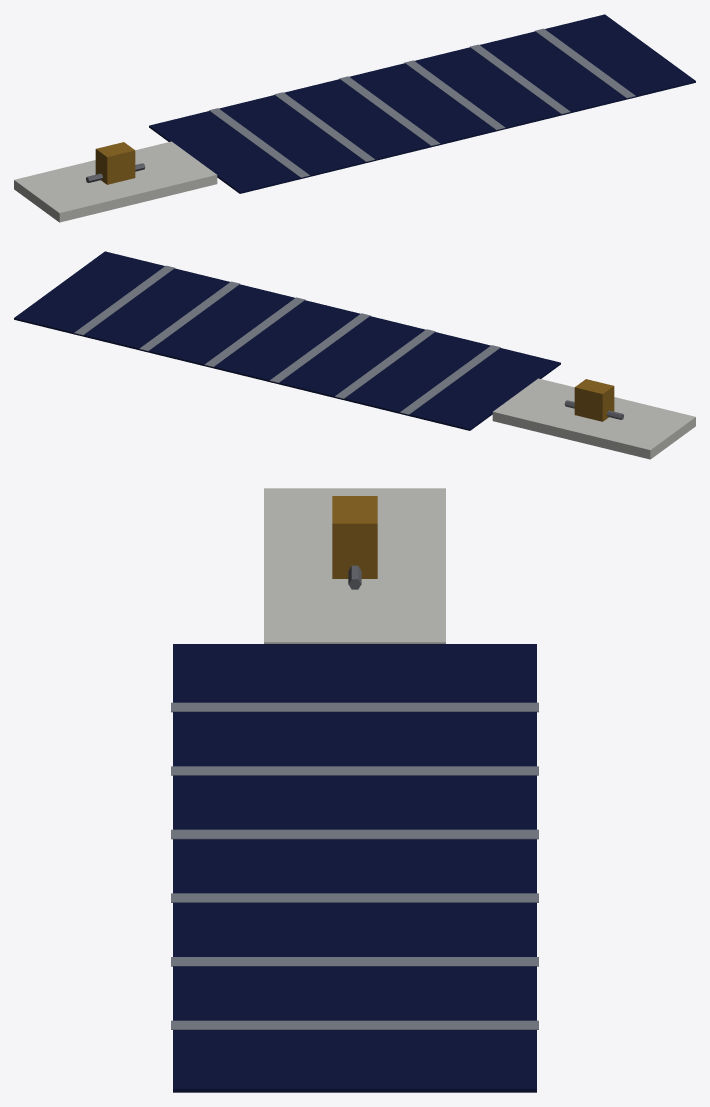
Rendered from starlink_v1.glb.
The picture shows the model from 3 angles, top to bottom: view 1: azimuth 30°, elevation 25°; view 2: azimuth 150°, elevation 25°; view 3: azimuth 270°, elevation 25°; orthographic projection. The views are drawn at different scales.
Parts seen in each view (by area): view 1: starlink_v1; view 2: starlink_v1; view 3: starlink_v1.
Part boxes in pixels (x1,y1,x2,y2): starlink_v1: (14, 14, 695, 222); starlink_v1: (14, 251, 695, 459); starlink_v1: (171, 488, 538, 1092).
Bounding box in the file's own units: 10.9 × 0.66 × 2.83.
